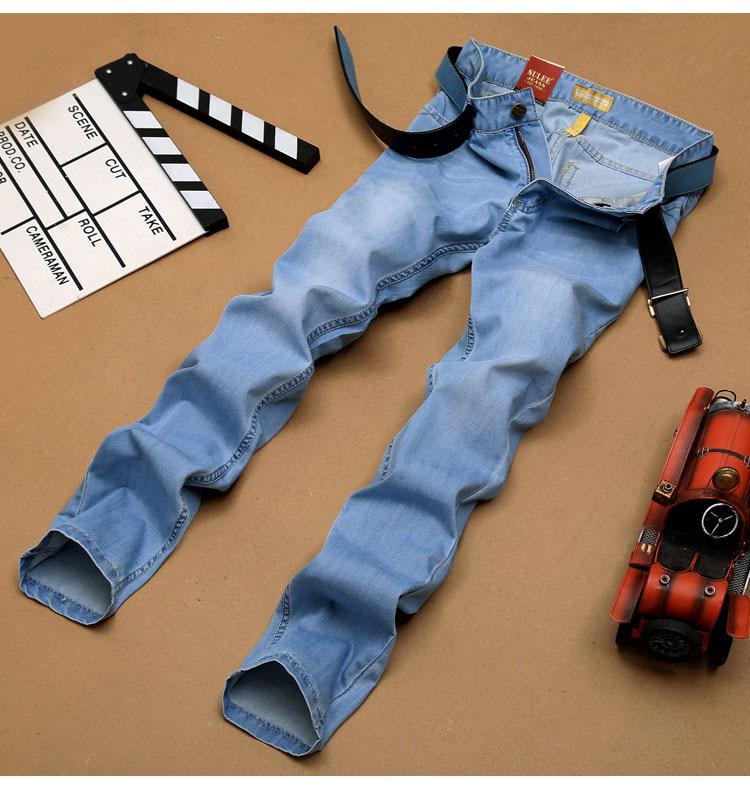jeans: (109, 46, 713, 669)
